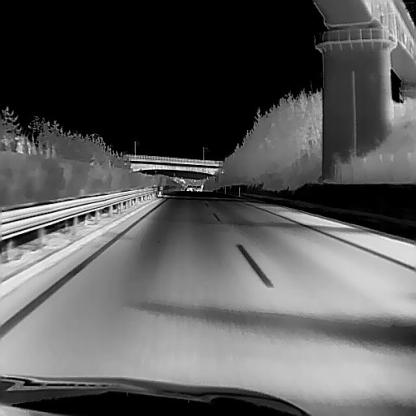car: (194, 184, 202, 191), (184, 184, 192, 190)
